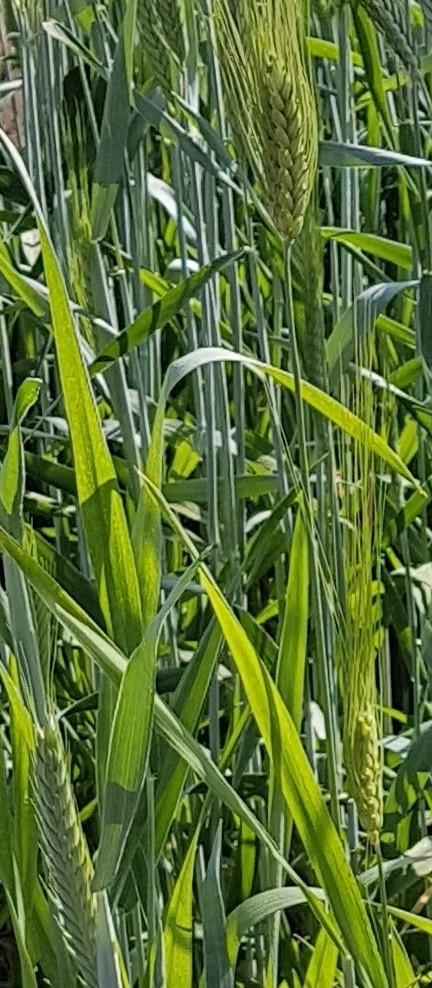Healthy Wheat: (27, 726, 119, 978), (247, 45, 334, 241), (335, 705, 405, 834)
